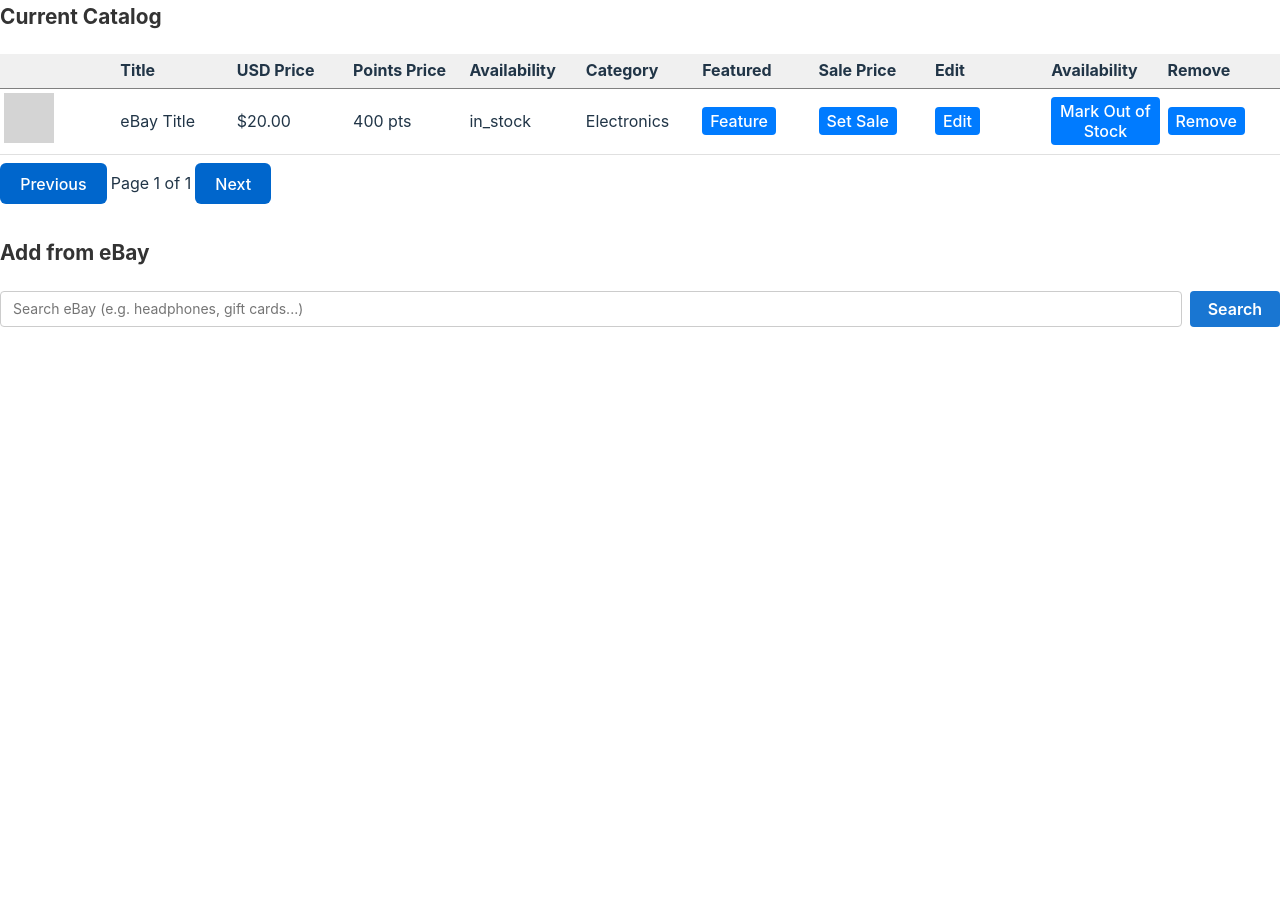
Test: OrganizationCatalogTab — Edit Item Modal › opens the Edit modal when the Edit button is clicked
The image size is (1280, 900).
Click the button "Edit": (957, 122) [935,108,980,136]
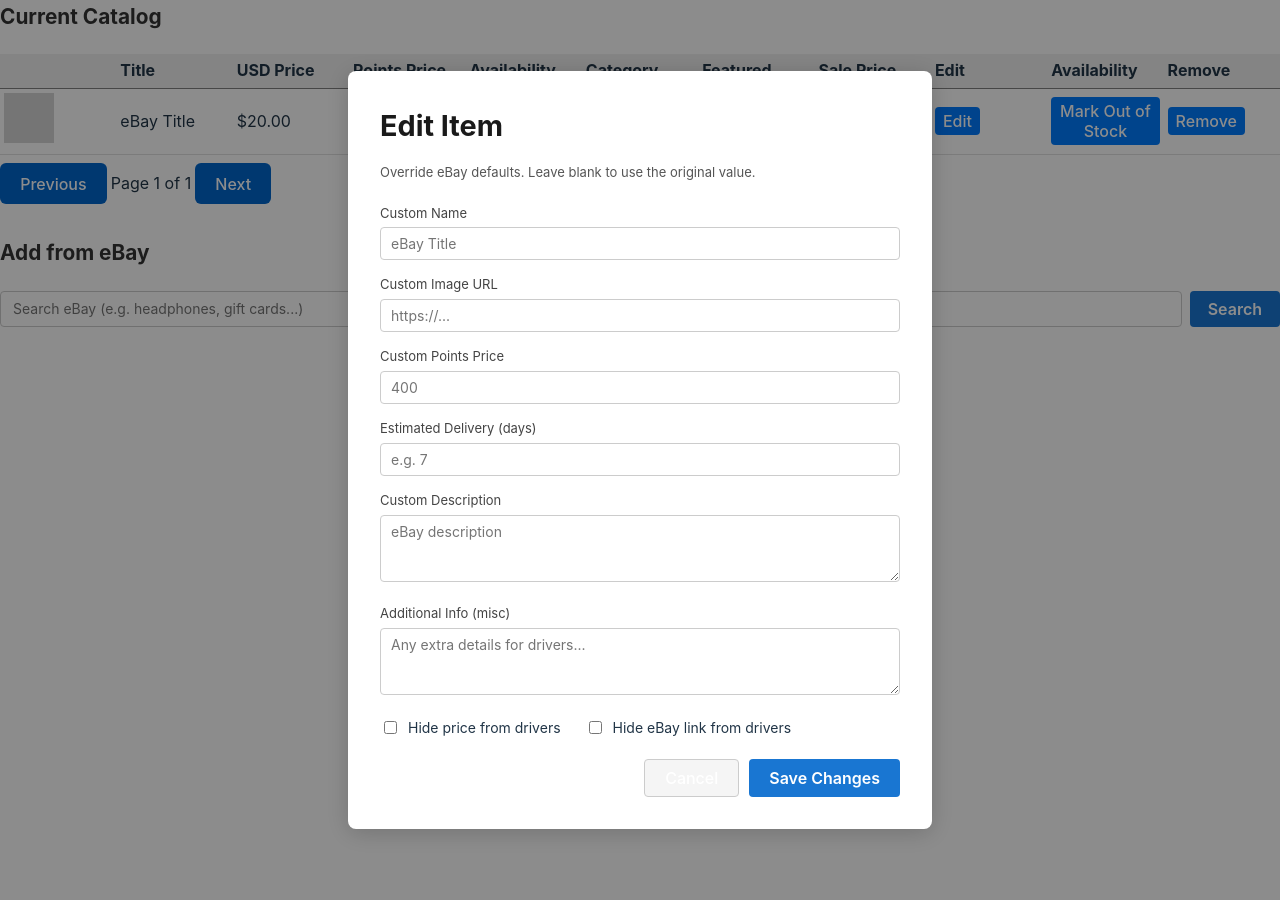
Now the heading "Edit Item" is shown, box [380,108,503,143]
